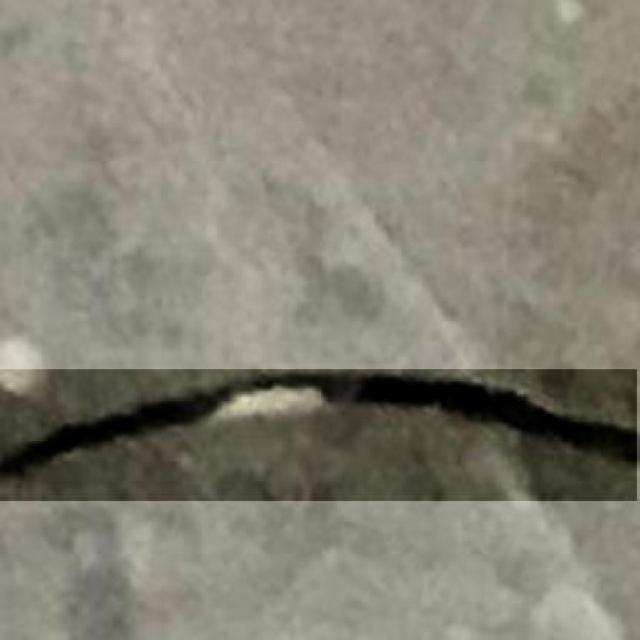Crack: (1, 360, 640, 500)
